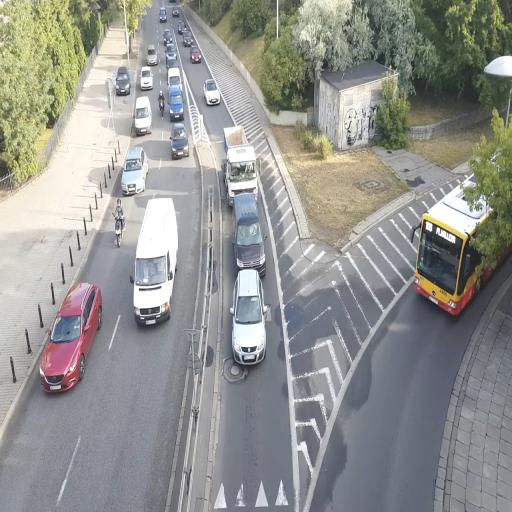vehicle: (414, 186, 494, 320), (38, 280, 102, 394), (132, 196, 178, 328), (232, 148, 266, 274), (230, 269, 268, 366), (232, 190, 266, 274), (223, 125, 258, 204), (120, 146, 148, 195), (133, 96, 152, 136), (170, 121, 190, 158), (203, 78, 221, 105), (114, 68, 131, 95), (138, 67, 154, 90), (191, 50, 201, 63)
